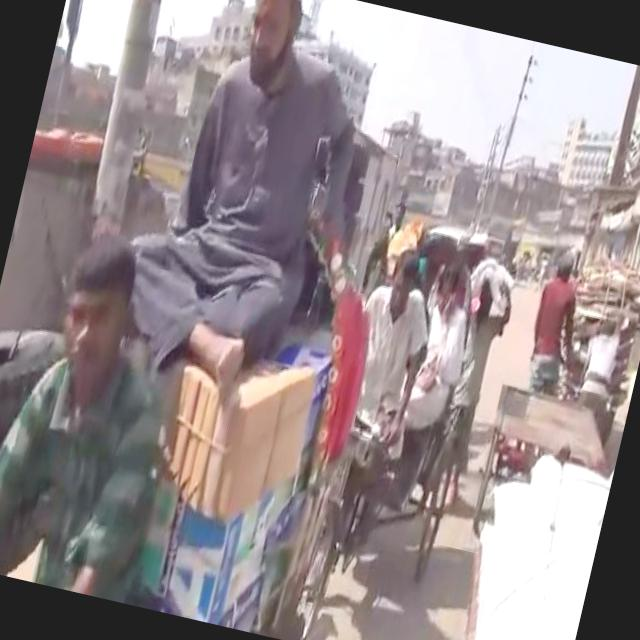motorcycle: (0, 145, 410, 640), (278, 213, 512, 640), (466, 241, 640, 550)
truck: (482, 210, 518, 262)
